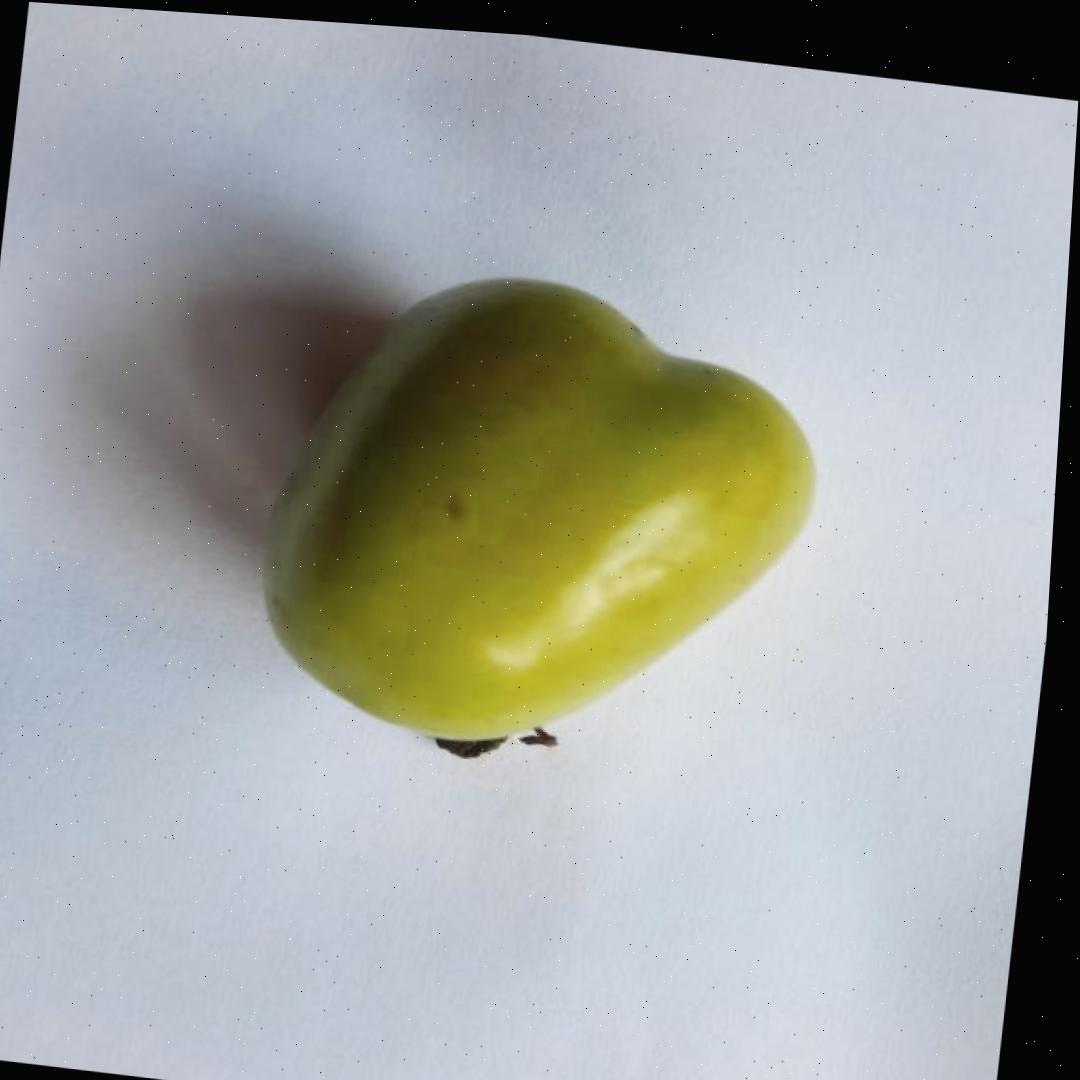mentah: (237, 245, 835, 777)
